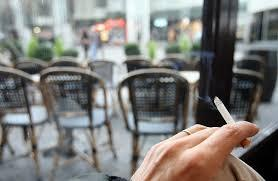smoke: (214, 95, 250, 149)
